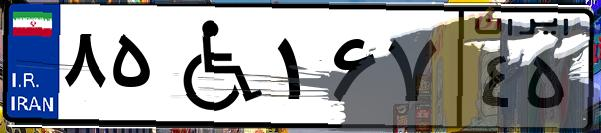1: (270, 28, 330, 110)
4: (475, 38, 525, 113)
5: (525, 38, 570, 115), (110, 28, 158, 98)
6: (330, 28, 385, 110)
7: (385, 28, 445, 110)
8: (57, 26, 110, 100)
ژ (معلولین و جانبازان): (158, 12, 270, 120)
